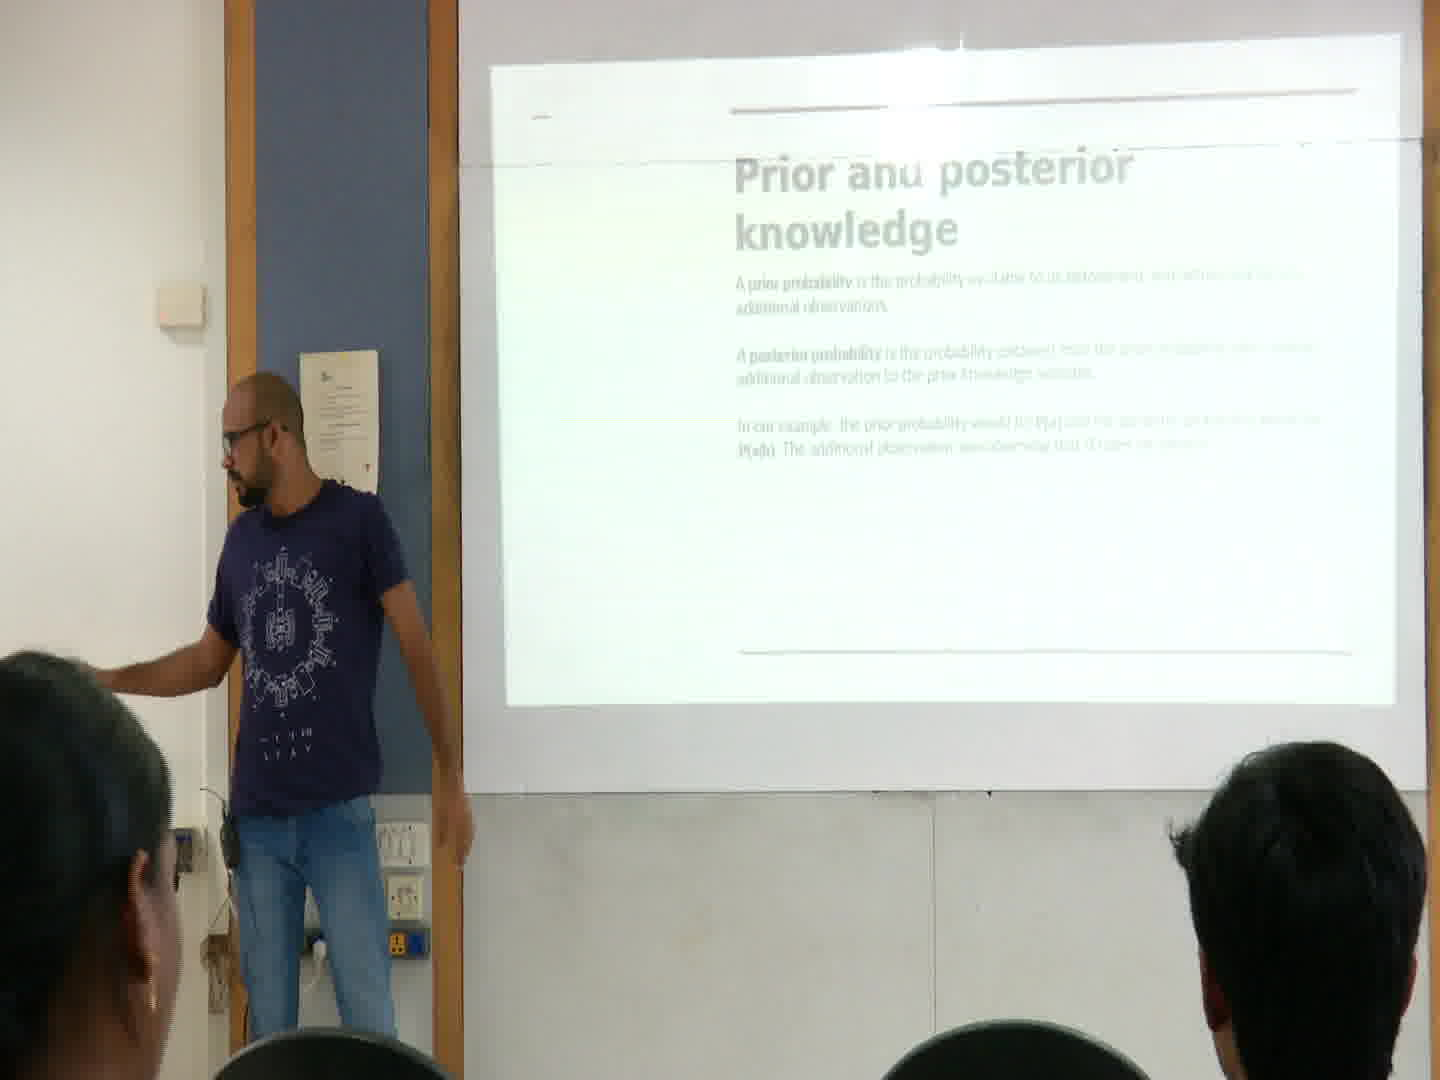slide: (489, 32, 1399, 704)
